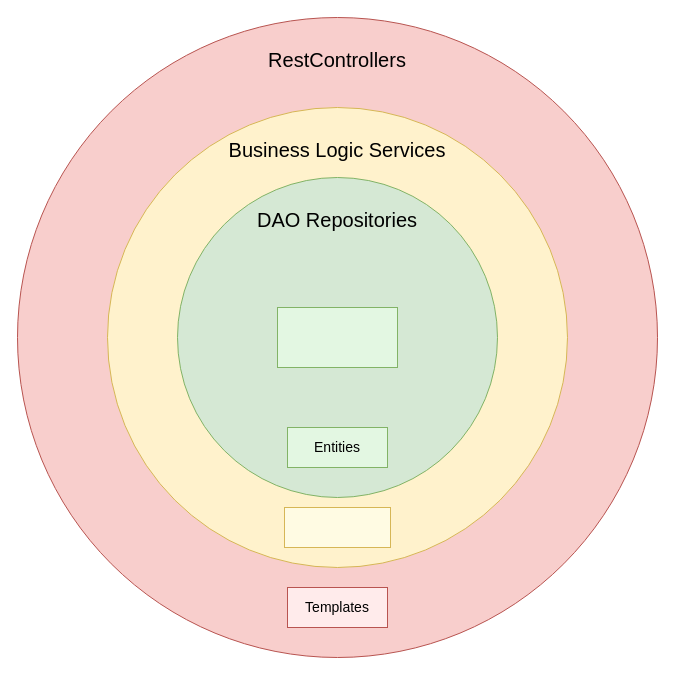
Some shapes in this 675 by 675 pixel diagram are drawn without their labels. Each missing label, with the centre of its shape:
"Database Access Implementations" belongs at pixel 337 337.
"Models" belongs at pixel 337 527.
